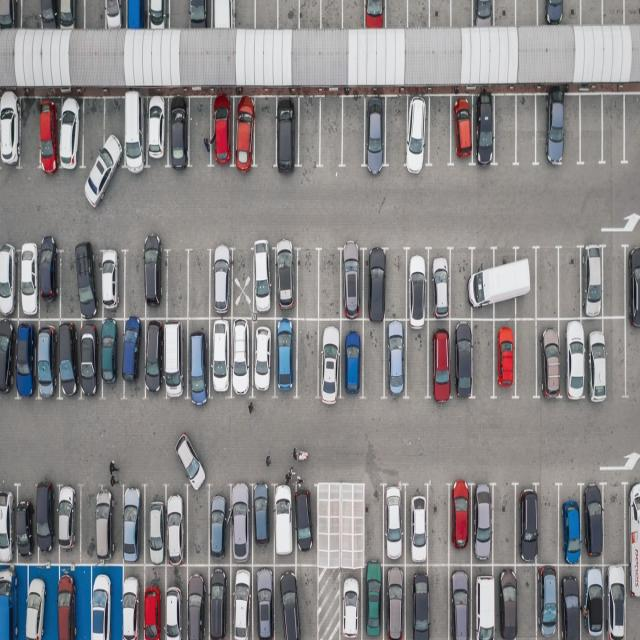space-empty: (187, 484, 213, 565), (603, 318, 629, 397), (294, 318, 320, 396), (423, 564, 450, 638), (470, 319, 496, 395), (405, 322, 431, 398), (104, 98, 130, 174), (426, 486, 450, 568), (513, 320, 538, 398), (292, 563, 318, 638), (361, 319, 386, 396), (254, 94, 280, 168), (425, 96, 452, 167), (341, 94, 367, 167), (492, 488, 516, 566), (188, 97, 214, 169), (80, 99, 105, 173), (380, 250, 406, 321), (361, 487, 384, 567), (601, 247, 626, 320), (228, 247, 253, 320), (602, 94, 628, 164), (536, 248, 562, 318), (448, 250, 474, 320), (492, 93, 517, 165), (383, 97, 408, 169), (20, 96, 44, 171), (537, 489, 560, 567), (296, 250, 322, 318), (602, 486, 624, 566), (188, 249, 213, 319), (297, 97, 322, 167), (557, 249, 582, 319), (320, 97, 345, 167), (515, 566, 539, 638), (316, 251, 341, 320), (580, 93, 604, 164), (71, 565, 93, 640), (515, 94, 538, 165), (124, 250, 148, 317), (62, 246, 84, 318), (167, 248, 190, 316), (80, 487, 100, 563), (562, 94, 582, 167), (318, 488, 336, 567), (624, 319, 640, 396), (624, 95, 640, 164), (319, 0, 342, 32), (383, 0, 408, 29), (298, 0, 322, 30), (341, 0, 365, 29), (407, 0, 431, 29), (276, 0, 299, 30), (85, 0, 107, 31), (450, 0, 474, 28), (254, 0, 277, 29), (168, 0, 190, 30), (515, 0, 538, 28), (430, 0, 453, 28), (21, 0, 43, 29), (234, 0, 256, 28), (492, 0, 514, 27), (601, 0, 624, 25), (581, 0, 603, 25), (624, 0, 640, 24)
space-occupied: (15, 565, 52, 640), (571, 320, 601, 402), (86, 562, 118, 638), (560, 318, 590, 398), (470, 564, 500, 638), (538, 93, 568, 166), (537, 320, 564, 399), (187, 320, 213, 402), (426, 320, 453, 398), (446, 483, 472, 563), (448, 319, 474, 399), (226, 480, 251, 563), (490, 247, 519, 318), (339, 318, 365, 397), (53, 566, 81, 639), (272, 318, 298, 396), (492, 317, 518, 395), (251, 319, 277, 397), (380, 483, 405, 564), (226, 563, 253, 638), (207, 319, 232, 400), (404, 97, 432, 169), (471, 483, 496, 563), (227, 319, 252, 399), (205, 563, 232, 637), (448, 95, 476, 166), (58, 97, 84, 173), (123, 96, 149, 172), (122, 318, 147, 397), (405, 484, 430, 563), (586, 318, 611, 397), (120, 564, 146, 639), (183, 564, 209, 639), (163, 486, 188, 564), (513, 486, 538, 564), (144, 98, 171, 170), (317, 316, 341, 397), (162, 319, 186, 400), (100, 249, 128, 318), (448, 564, 474, 638), (162, 566, 188, 640), (122, 484, 146, 564), (12, 319, 36, 399), (208, 247, 235, 318), (340, 569, 367, 640), (578, 562, 603, 638), (166, 98, 192, 171), (208, 485, 232, 564), (140, 564, 165, 639), (380, 563, 405, 638), (560, 489, 585, 564), (274, 563, 299, 638), (381, 320, 405, 398), (364, 94, 389, 168), (534, 566, 559, 640), (31, 482, 55, 559), (37, 99, 61, 176), (272, 246, 298, 317), (471, 247, 497, 318), (142, 484, 165, 564), (272, 485, 296, 561), (558, 562, 582, 638), (577, 248, 603, 318), (361, 250, 387, 320), (209, 97, 234, 169), (35, 320, 58, 398), (254, 243, 278, 317), (57, 485, 81, 559), (254, 564, 278, 638), (405, 564, 429, 638), (340, 250, 366, 318), (250, 484, 272, 564), (58, 321, 80, 401), (14, 246, 38, 319), (38, 246, 62, 319), (232, 98, 257, 168), (426, 252, 452, 319), (144, 319, 166, 398), (494, 568, 518, 640), (603, 565, 626, 640), (100, 316, 122, 394), (275, 97, 299, 168), (406, 251, 431, 319), (512, 248, 536, 318), (293, 486, 315, 562), (94, 484, 115, 562), (80, 246, 103, 317), (144, 248, 168, 316), (474, 93, 496, 166), (360, 567, 382, 640), (80, 320, 100, 399), (1, 94, 22, 169), (584, 487, 604, 564), (105, 483, 124, 562), (0, 243, 19, 317), (17, 486, 36, 560), (0, 567, 18, 640), (0, 490, 17, 566), (625, 481, 640, 564), (625, 563, 640, 637), (0, 319, 14, 397), (626, 245, 640, 319), (540, 0, 580, 25), (126, 0, 150, 31), (146, 0, 171, 29), (361, 0, 386, 29), (56, 0, 81, 29), (210, 1, 234, 30), (187, 0, 211, 29), (104, 0, 126, 30), (473, 0, 497, 27), (0, 0, 20, 29), (39, 0, 58, 29), (70, 0, 86, 30)
